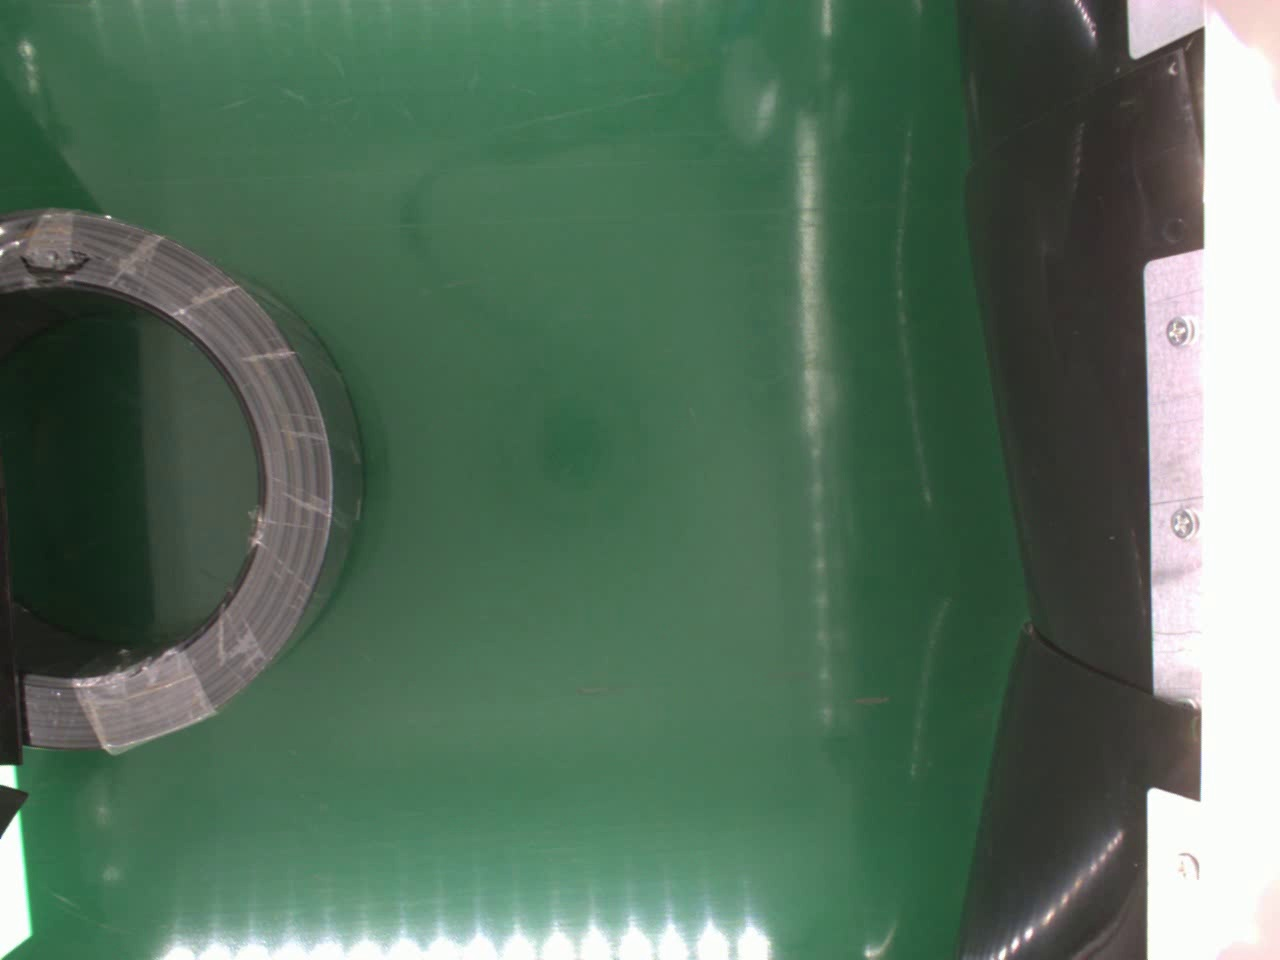black: (0, 206, 367, 756)
